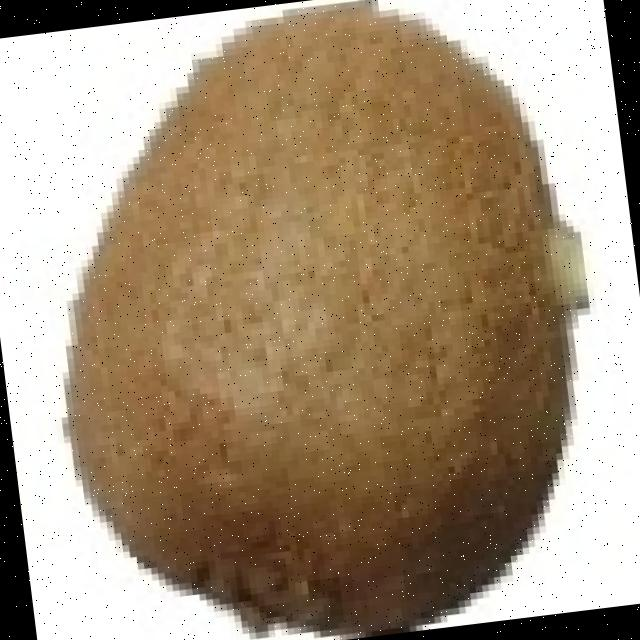kiwi: (56, 0, 569, 622)
